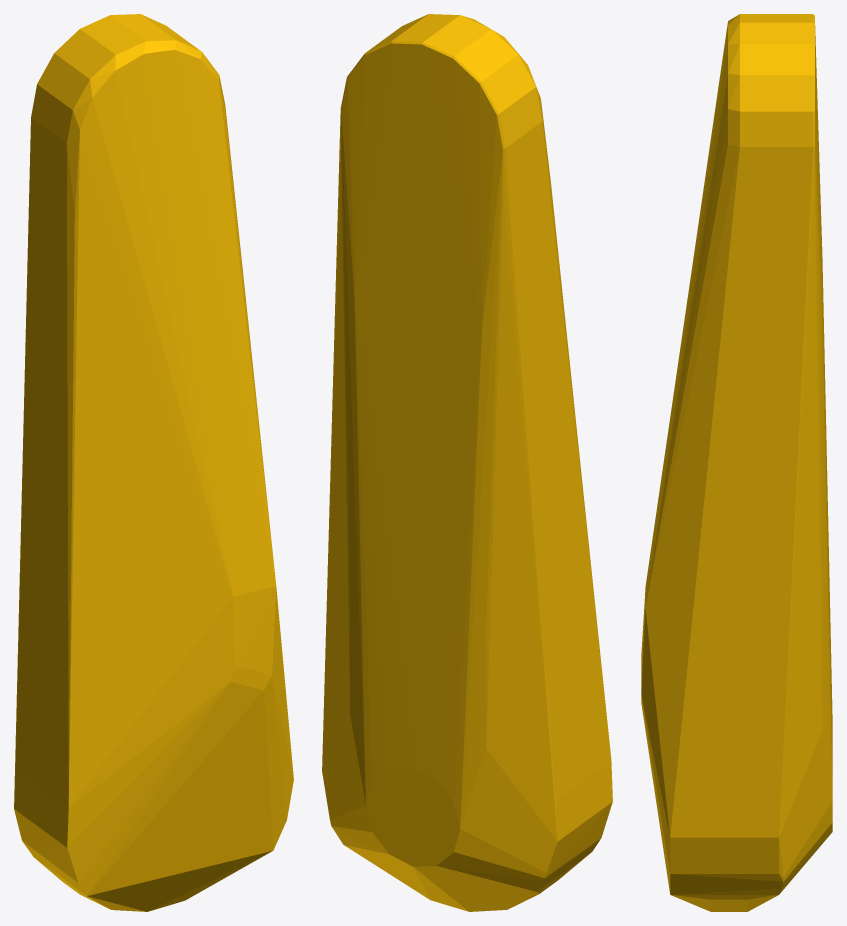
3 views of the same model, side by side, from view 1: azimuth 30°, elevation 25°; view 2: azimuth 150°, elevation 25°; view 3: azimuth 270°, elevation 25° (orthographic). The views are drawn at different scales.
Parts seen in each view (by area): view 1: Link 2.001; view 2: Link 2.001; view 3: Link 2.001.
Part boxes in pixels (left/top/right/bottom): Link 2.001: left=14, top=14, right=293, bottom=911; Link 2.001: left=322, top=14, right=612, bottom=911; Link 2.001: left=641, top=14, right=832, bottom=911.
Bounding box in the file's own units: 0.3147 × 0.225 × 1.14.
